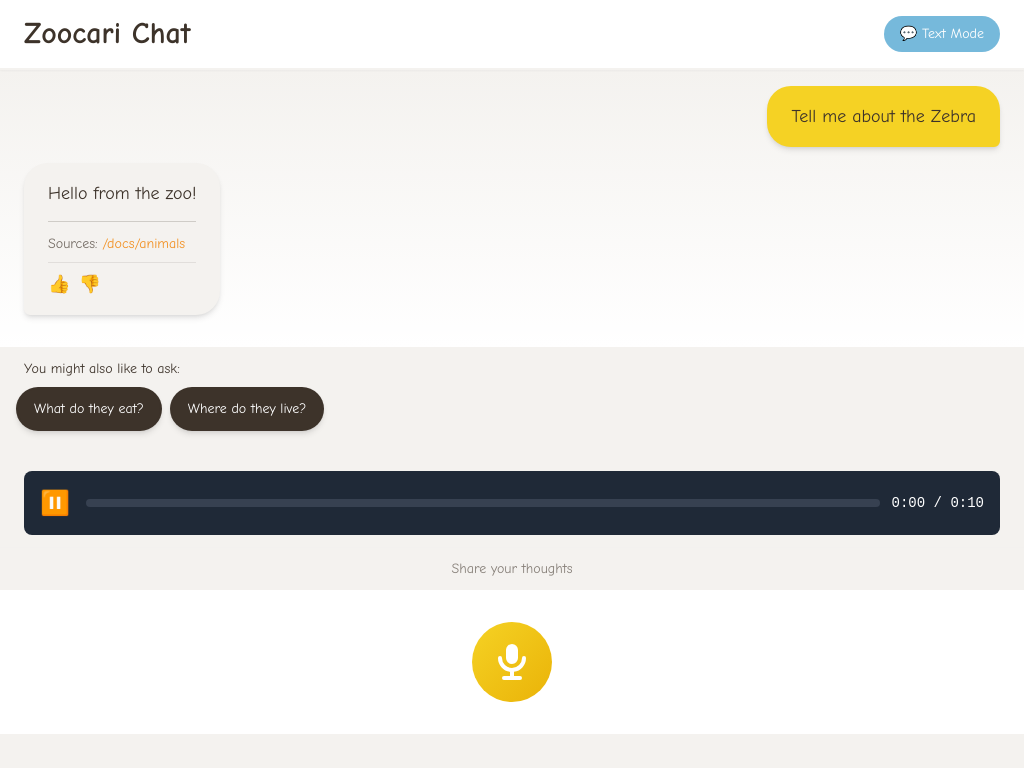
Scenario: ChatInterface - Integration Tests › toggles between voice and text input modes
Toggle to text mode
Click the button "💬 Text Mode": (942, 34) [884,16,1000,52]
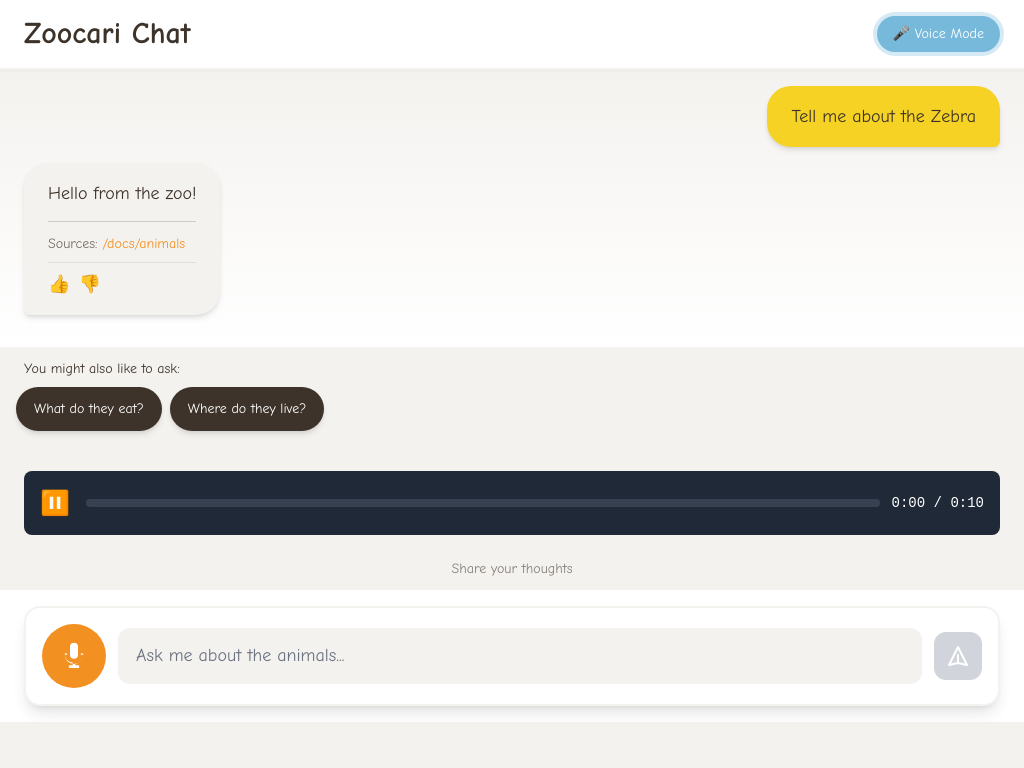
Check: the field with placeholder "Ask me about the animals..." is shown, box [118,628,922,684]
Toggle back to voice mode
Click the button "🎤 Voice Mode": (938, 34) [877,16,1000,52]
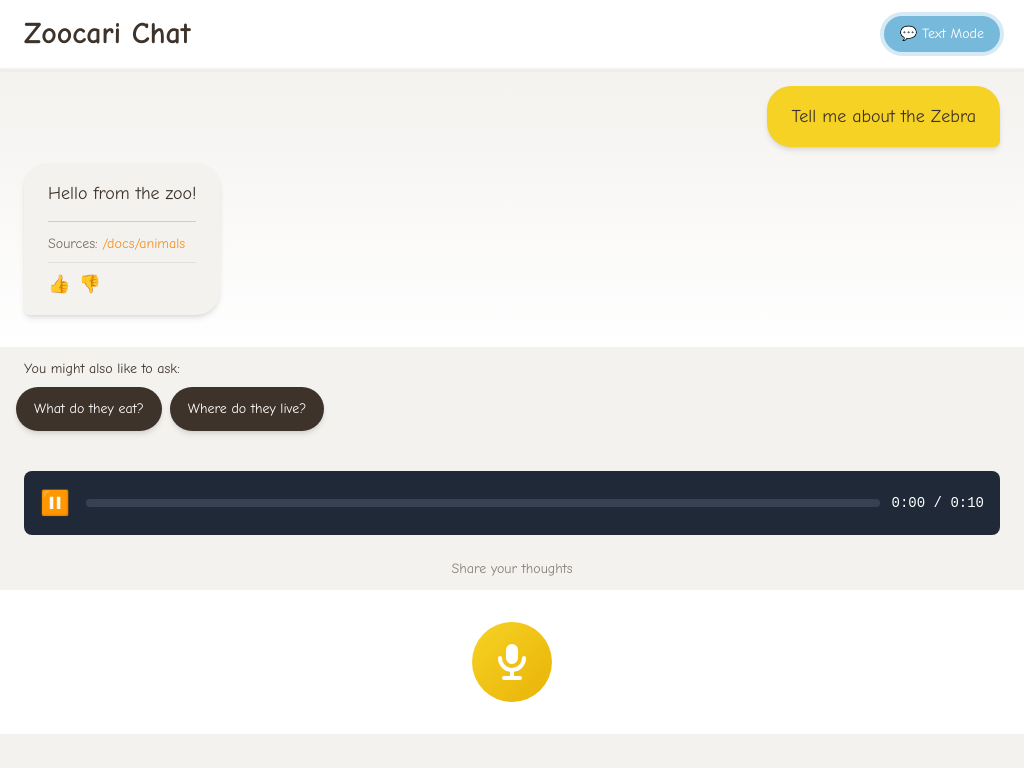
Check: the button named "Start recording" is shown, box [472,622,552,702]
